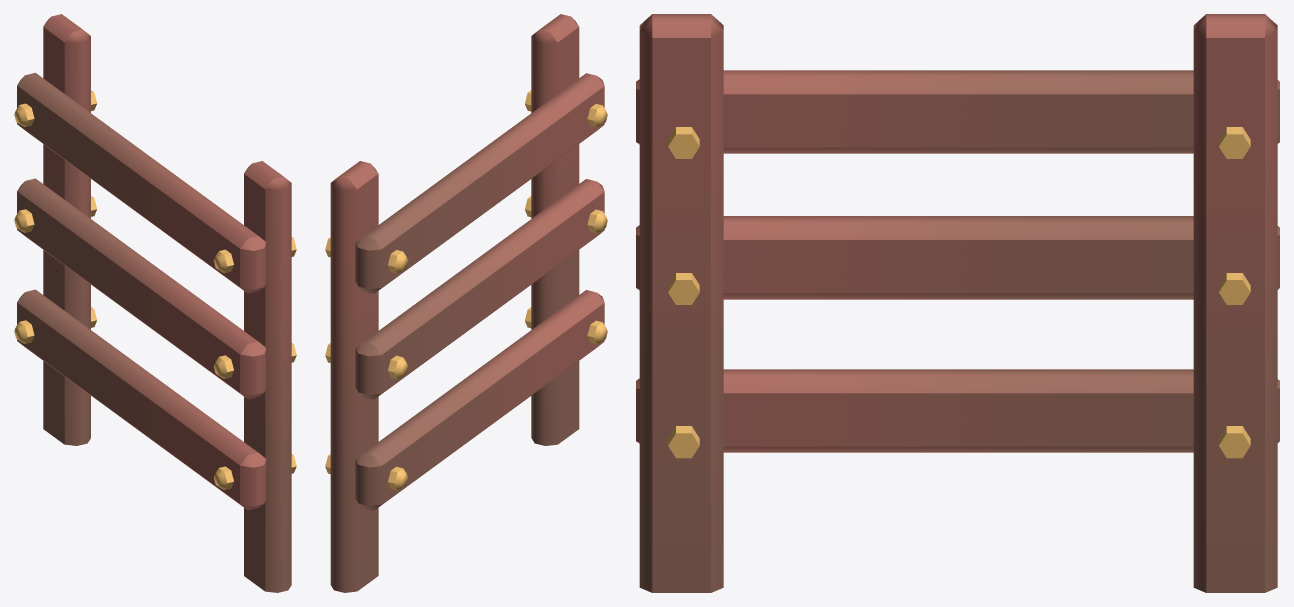
The model's file is Fence_Mesh_01.fbx.
3 views of the same model, side by side, from view 1: azimuth 30°, elevation 25°; view 2: azimuth 150°, elevation 25°; view 3: azimuth 270°, elevation 25° (orthographic). The views are drawn at different scales.
Visible parts, largest first — view 1: Fence_01; view 2: Fence_01; view 3: Fence_01.
Part boxes in pixels (x1,y1,x2,y2): Fence_01: [14, 14, 296, 592]; Fence_01: [325, 14, 607, 592]; Fence_01: [636, 14, 1279, 592].
Size of the model in its own units: 0.2959 by 1.58 by 1.63.
